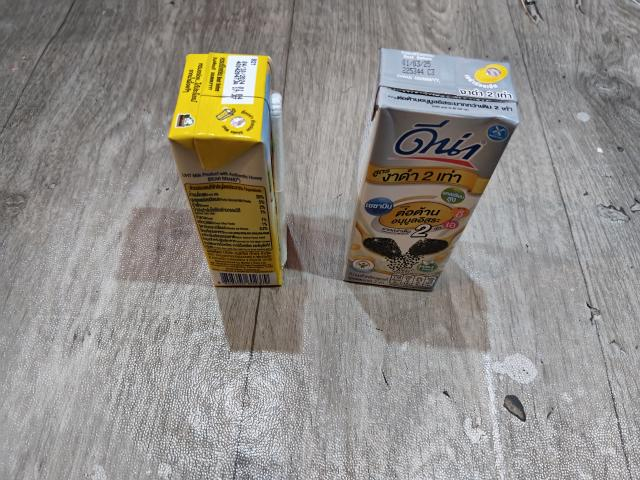drink_box: (332, 42, 526, 301), (159, 46, 300, 298)
